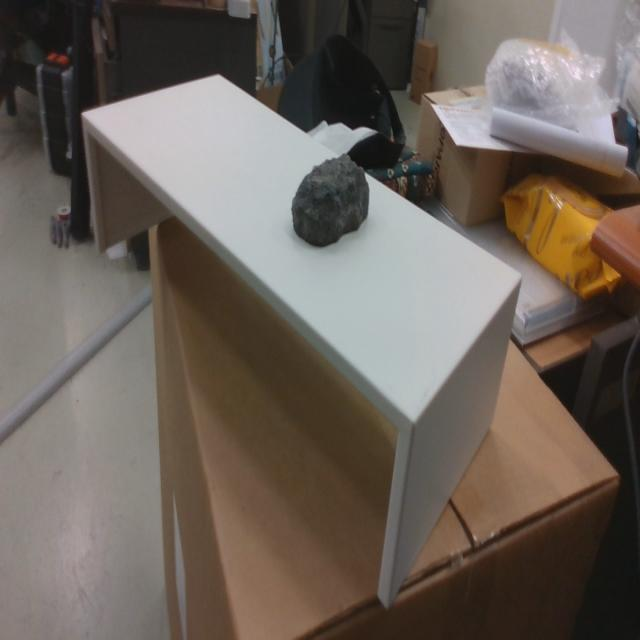stone: (292, 154, 369, 248)
